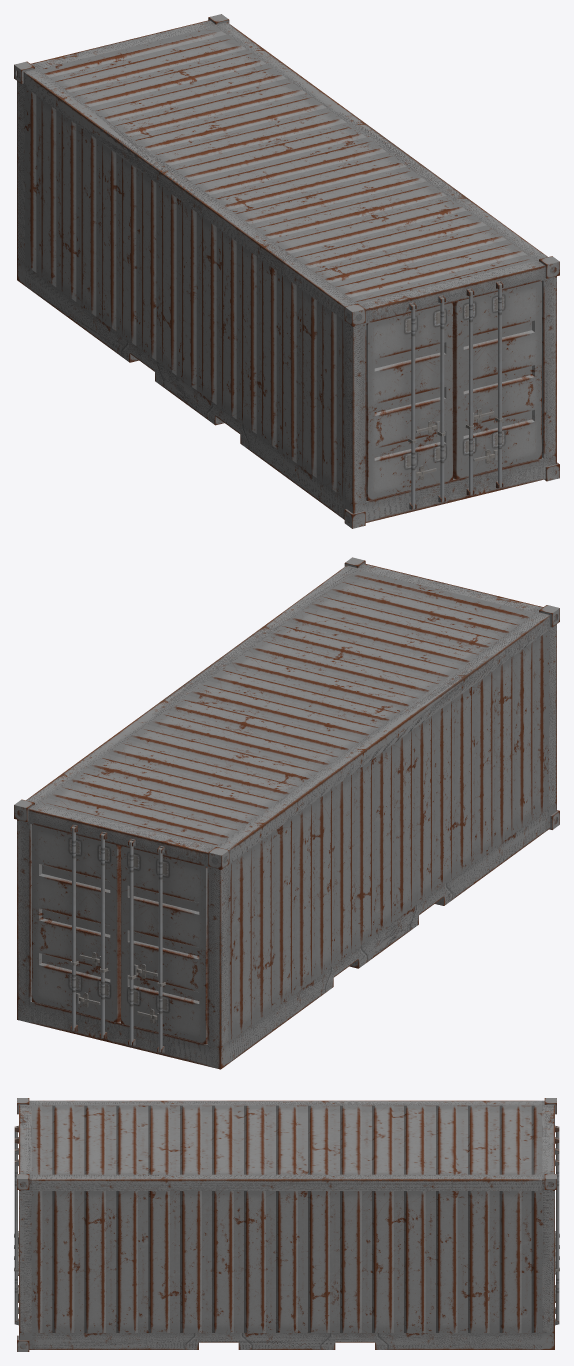
File: Container_big1.fbx
3 renders of one model, top to bottom at view 1: azimuth 30°, elevation 25°; view 2: azimuth 150°, elevation 25°; view 3: azimuth 270°, elevation 25°, orthographic. The views are drawn at different scales.
Visible parts, largest first — view 1: polySurface397; view 2: polySurface397; view 3: polySurface397.
Part boxes in pixels (x1=…): polySurface397: x1=14, y1=14, x2=559, y2=528; polySurface397: x1=14, y1=557, x2=559, y2=1069; polySurface397: x1=14, y1=1098, x2=559, y2=1351.
Size of the model in its own units: 285 by 284 by 814.
